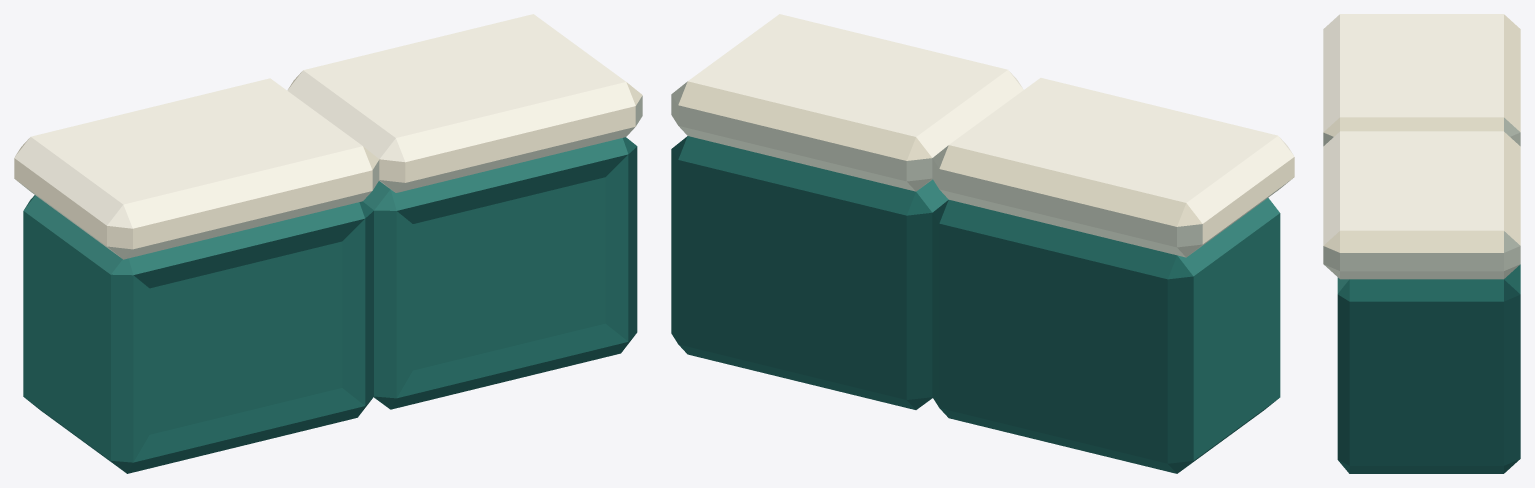
Rendered from Terrain_TopRun2L.gltf.
3 renders of one model, left to right at view 1: azimuth 30°, elevation 25°; view 2: azimuth 150°, elevation 25°; view 3: azimuth 270°, elevation 25°, orthographic. The views are drawn at different scales.
Visible parts, largest first — view 1: Terrain_TopRun2L_baked; view 2: Terrain_TopRun2L_baked; view 3: Terrain_TopRun2L_baked.
Boxes of the visible parts, x1,y1,x2,y2 form: Terrain_TopRun2L_baked: (14,14,642,473); Terrain_TopRun2L_baked: (671,14,1294,473); Terrain_TopRun2L_baked: (1323,14,1520,473).
Size of the model in its own units: 2.03 by 1 by 0.735.
